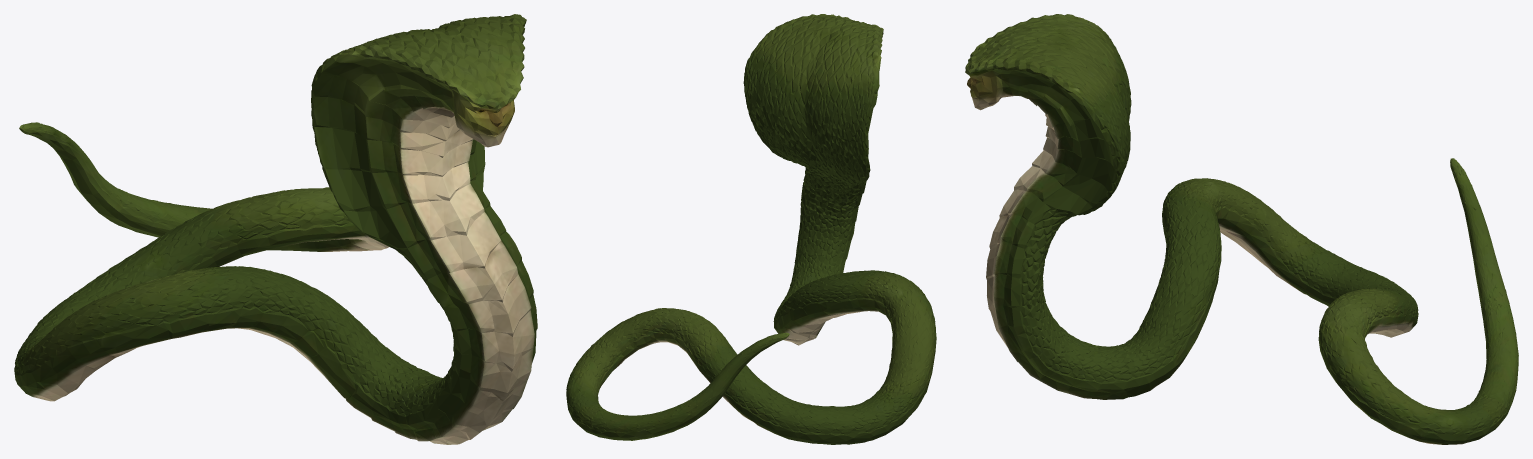
The model's file is MZ4250 - Guardian Naga.glb.
3 views of the same model, side by side, from view 1: azimuth 30°, elevation 25°; view 2: azimuth 150°, elevation 25°; view 3: azimuth 270°, elevation 25° (orthographic). The views are drawn at different scales.
Visible parts, largest first — view 1: default; view 2: default; view 3: default.
Boxes of the visible parts, <box> form: default: <box>14,14,537,444</box>; default: <box>566,14,936,444</box>; default: <box>965,14,1518,444</box>.
Bounding box in the file's own units: 1.45 × 1.36 × 1.91.
Materials: 1 (1 with a texture image).
